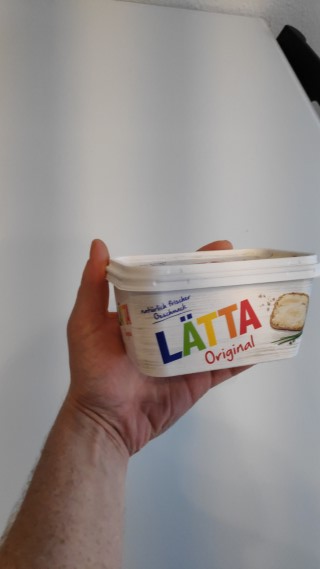laetta: (107, 246, 320, 377)
